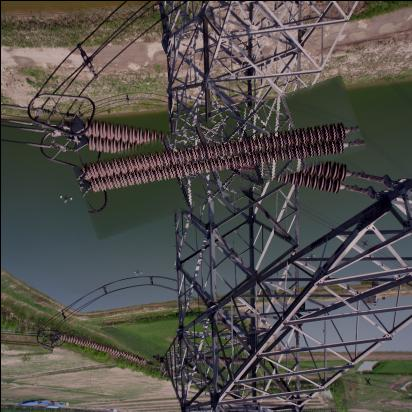insulator: (75, 97, 363, 220), (54, 334, 155, 364)
